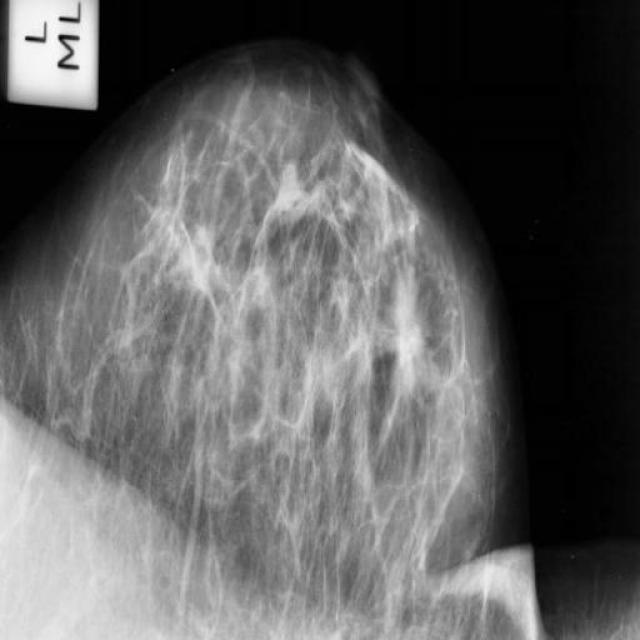cancer: (380, 265, 440, 397)
